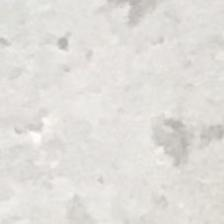Non_Crack: (46, 27, 160, 199)
